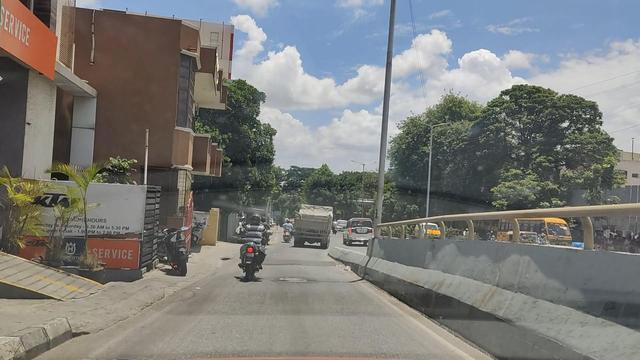HMV: (289, 202, 336, 255)
LMV: (161, 219, 198, 282)
RoadDamages: (271, 268, 315, 290)
